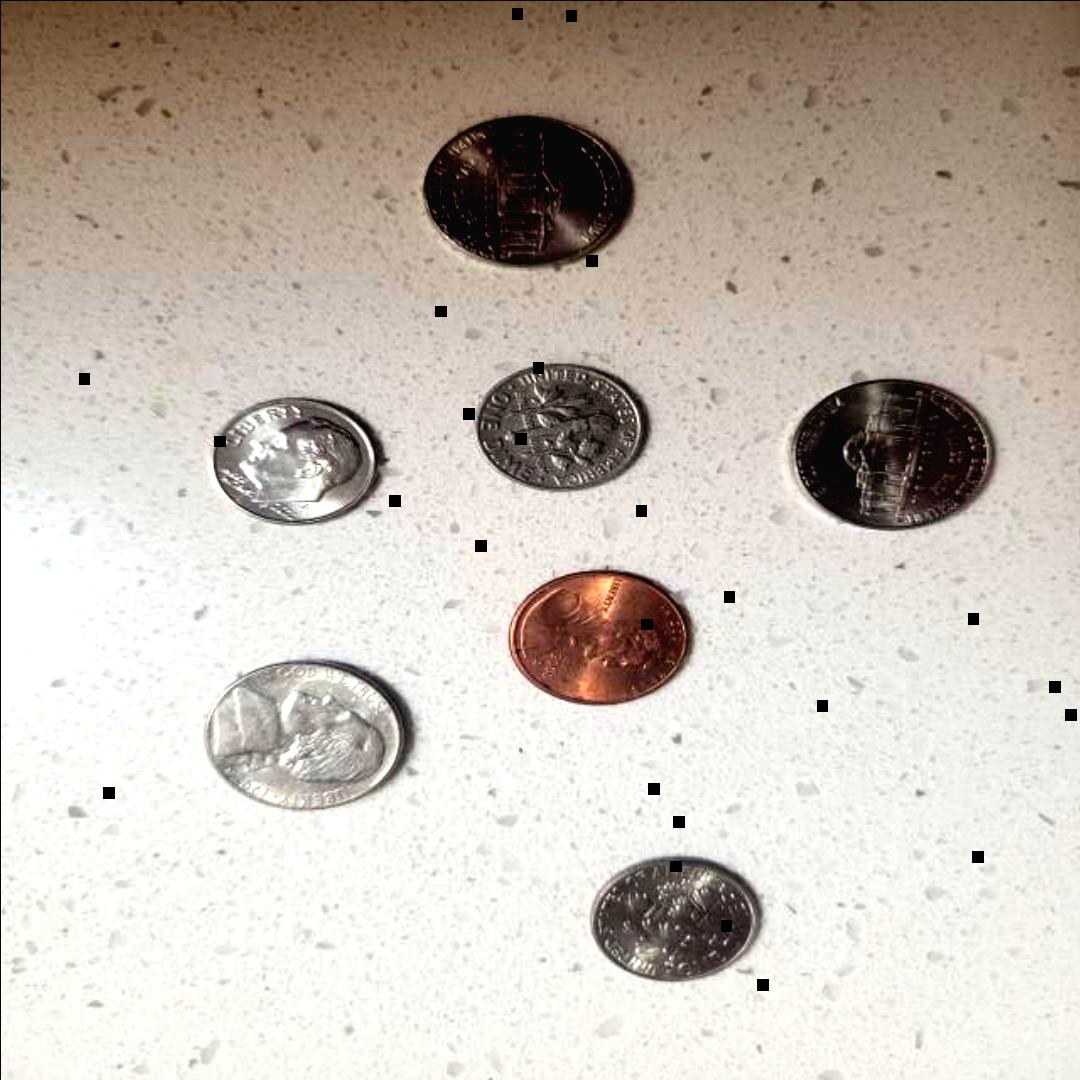Dime: (583, 853, 761, 991), (200, 395, 386, 526), (462, 363, 650, 491)
Nickel: (410, 108, 632, 272), (199, 656, 413, 820), (788, 376, 994, 534)
Penny: (496, 565, 694, 708)
